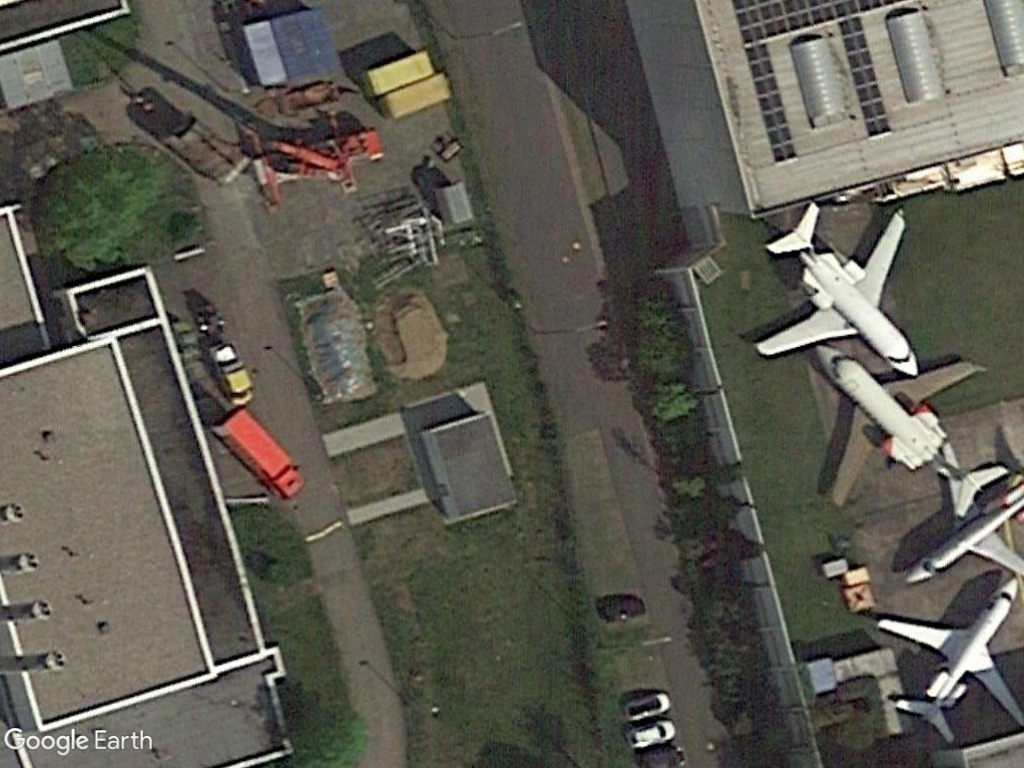chartered: (800, 335, 1018, 536), (752, 186, 928, 386), (858, 576, 1024, 751)
truck: (213, 407, 310, 503)
